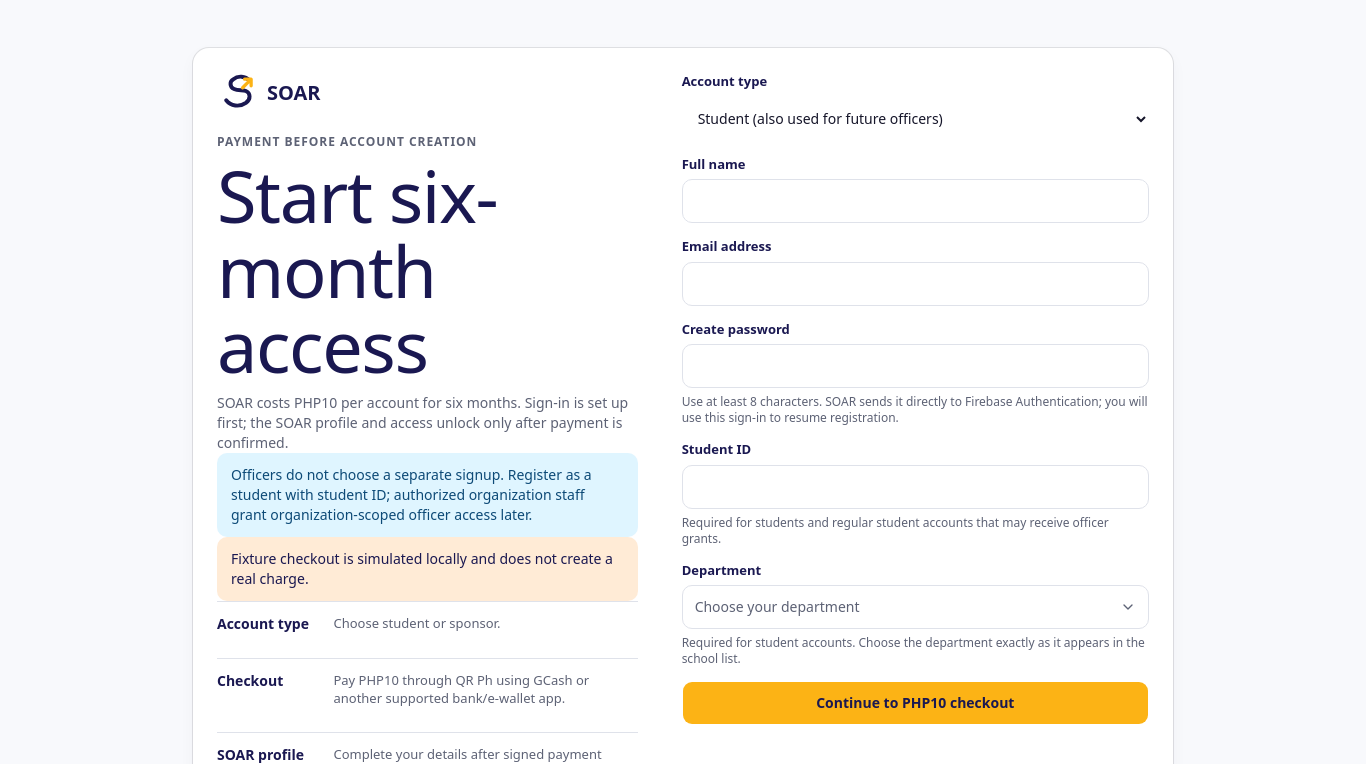
Test: RegistrationIntentPage › does not offer a separate officer account type or sponsor department field
expect the dropdown labelled "Choose your department" is shown: met, box [682,585,1149,629]
Select "Sponsor / outside user" in the dropdown labelled "Account type" at (915, 119), box [682,97,1149,141]
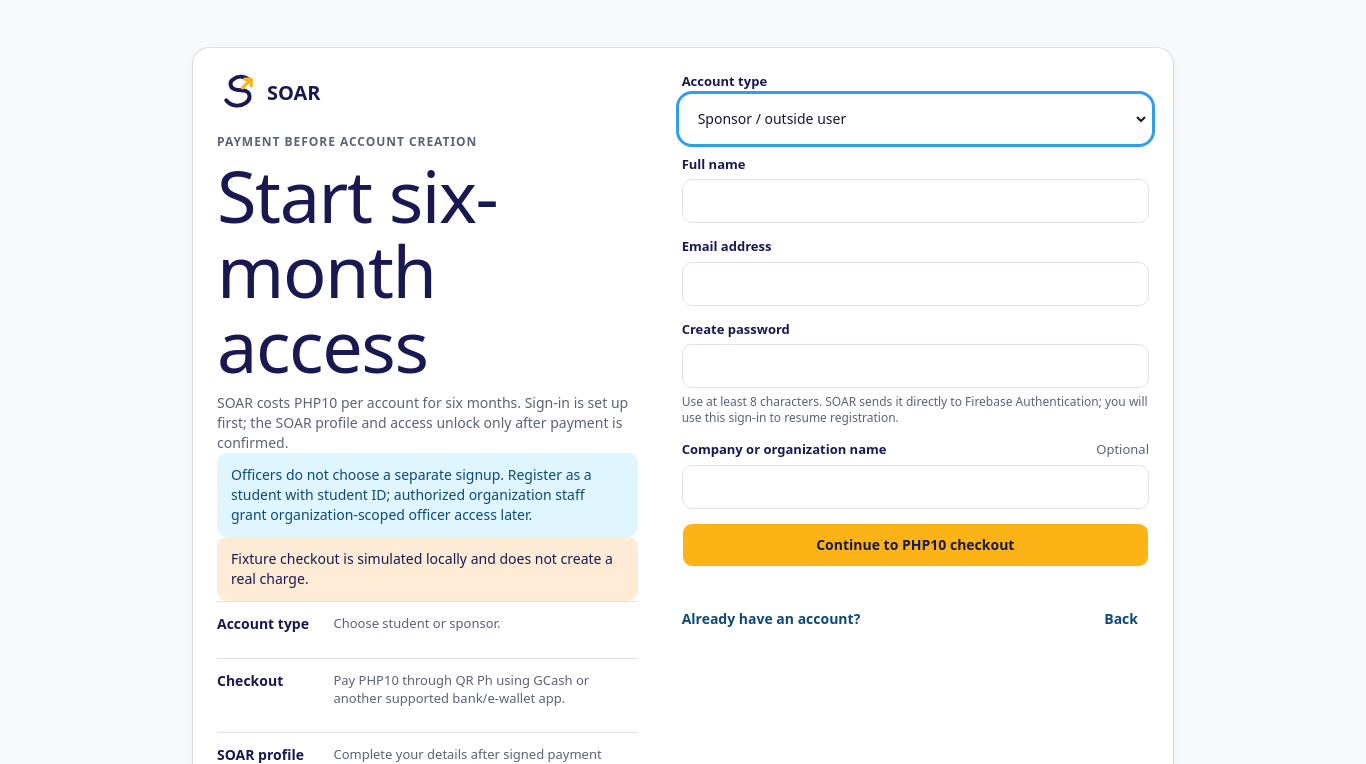
expect the text labelled "Department" is gone: met
